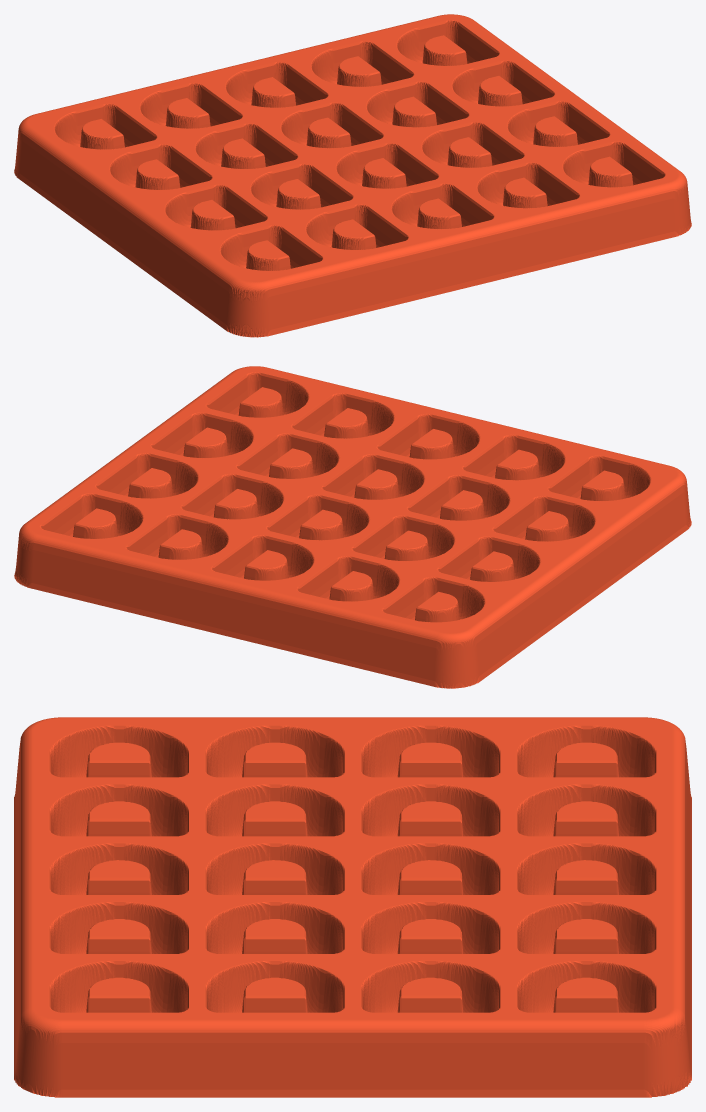
File: mold.glb
3 views of the same model, one above another, from view 1: azimuth 30°, elevation 25°; view 2: azimuth 150°, elevation 25°; view 3: azimuth 270°, elevation 25° (orthographic). The views are drawn at different scales.
Visible parts, largest first — view 1: geometry_0; view 2: geometry_0; view 3: geometry_0.
Part boxes in pixels (x1=…): geometry_0: x1=14, y1=14, x2=691, y2=337; geometry_0: x1=14, y1=366, x2=691, y2=688; geometry_0: x1=14, y1=717, x2=691, y2=1097.
Bounding box in the file's own units: 0.1415 × 0.0145 × 0.1278.
